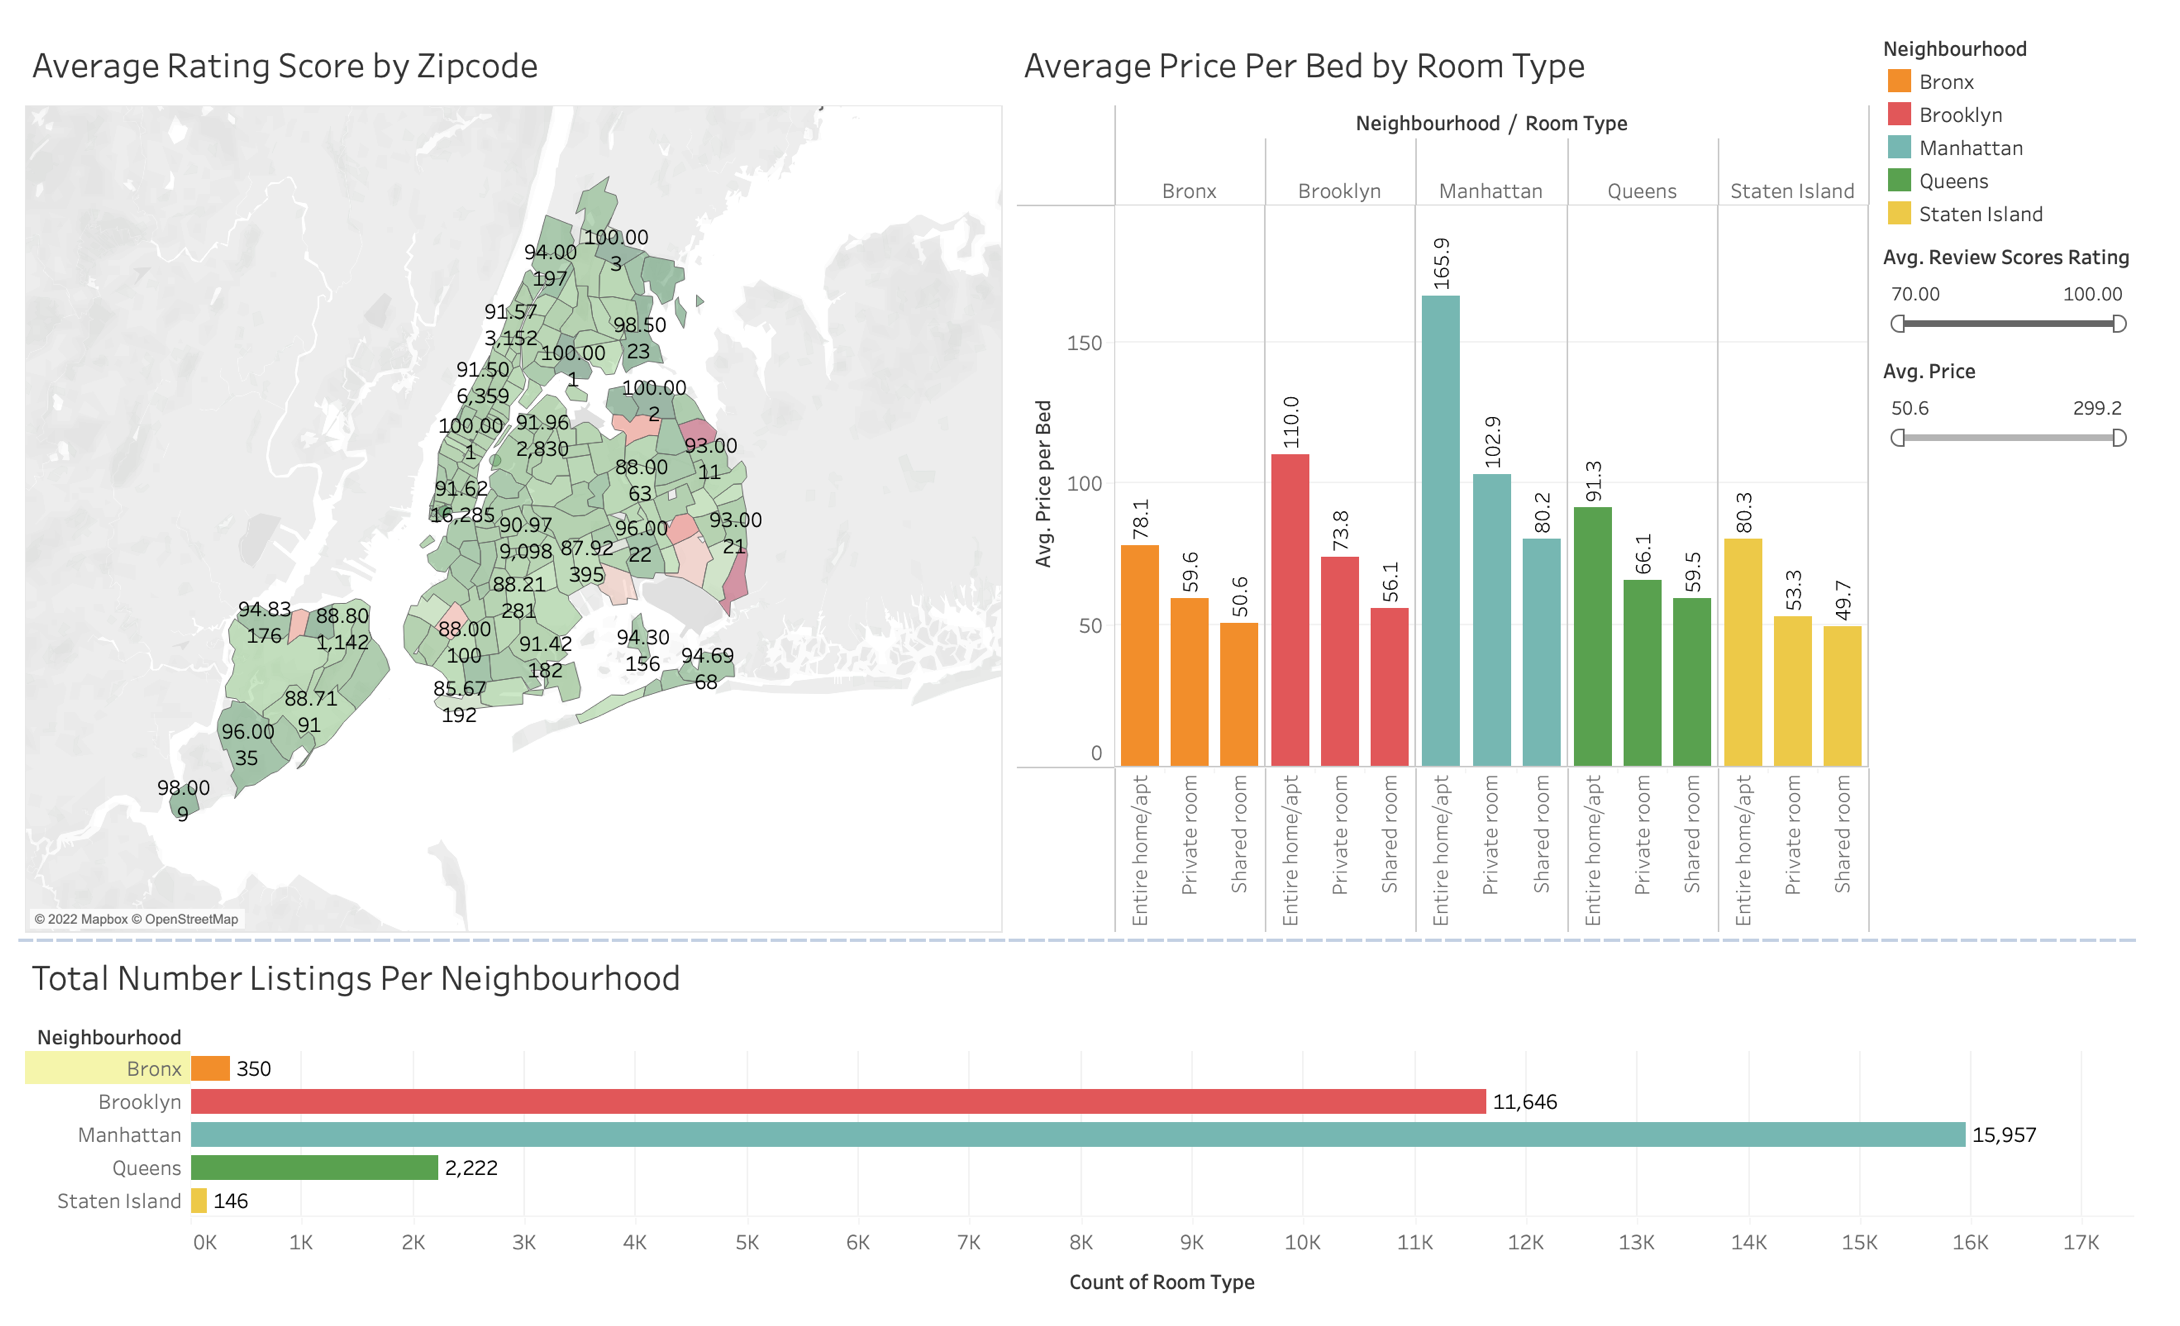

What the dashboard file says about the page in this screenshot:
{"tool":"tableau","page":{"name":"Question 2 Dashboard","canvas":[1000,1000],"units":"permille","ordinal":2},"visuals":[{"type":"worksheet","title":"Avg Rating Score by Zipcode","mark":"Multipolygon","box":[6.2,10,448.4,690]},{"type":"worksheet","title":"Avg Price Per Bed by Room Type","mark":"Automatic","rows":["Calculation_755689974202789889"],"cols":["Neighbourhood","Room Type"],"box":[454.5,10,391.6,690]},{"type":"legend","title":"Total Listings By Neighborhood","param":"[federated.0fi0hti0gflwg81bsmdna14rxrs9].[none:Neighbourhood:nk]","box":[846.2,10,147.7,157.5]},{"type":"filter","title":"Avg Rating Score by Zipcode","param":"[federated.0fi0hti0gflwg81bsmdna14rxrs9].[avg:Review Scores Rating:qk]","box":[846.2,167.5,147.7,86.2]},{"type":"filter","title":"Avg Price Per Bed by Room Type","param":"[federated.0fi0hti0gflwg81bsmdna14rxrs9].[avg:Price:qk]","box":[846.2,253.8,147.7,86.2]},{"type":"worksheet","title":"Total Listings By Neighborhood","mark":"Automatic","rows":["Neighbourhood"],"cols":["Room Type"],"box":[6.2,700,987.7,290]}]}

Visuals, with their boxes on the dashboard's canvas, which has no fixed pixel size, in thousandths of its width and height (x1, y1, x2, y2). These are canvas units, not pixel positions in the 2180x1326 screenshot, which may show the page scaled, cropped or inside an application window:
"Avg Rating Score by Zipcode" worksheet (Multipolygon marks): BBox(6, 10, 455, 700)
"Avg Price Per Bed by Room Type" worksheet: BBox(454, 10, 846, 700)
"Total Listings By Neighborhood" legend: BBox(846, 10, 994, 168)
"Avg Rating Score by Zipcode" filter: BBox(846, 168, 994, 254)
"Avg Price Per Bed by Room Type" filter: BBox(846, 254, 994, 340)
"Total Listings By Neighborhood" worksheet: BBox(6, 700, 994, 990)
